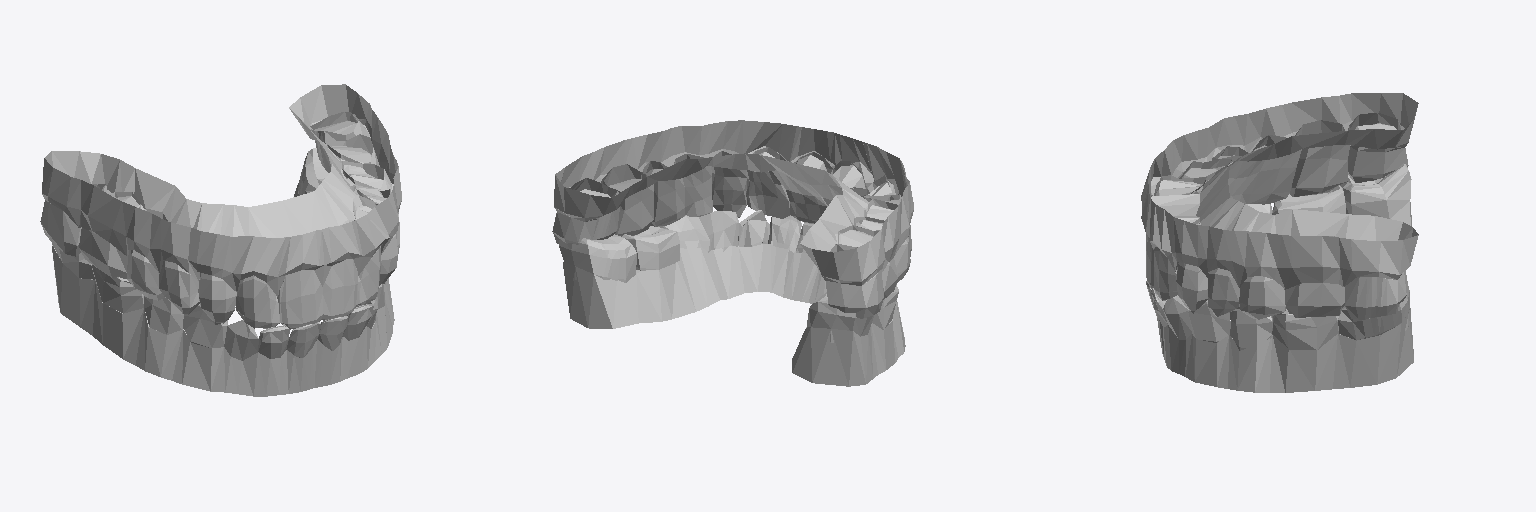
The model's file is jaw-segmented.obj.
3 renders of one model, left to right at view 1: azimuth 30°, elevation 25°; view 2: azimuth 150°, elevation 25°; view 3: azimuth 270°, elevation 25°, orthographic.
Visible parts, largest first — view 1: gum_15, gum_14, tooth_left_front_12, tooth_left_front_10, tooth_right_front_17, tooth_left_back_2, tooth_left_front_6, tooth_left_back_0, tooth_left_front_8, tooth_left_back_4, tooth_left_middle_3, tooth_left_front_7 (+13 smaller); view 2: gum_15, gum_14, tooth_right_back_28, tooth_right_back_29, tooth_right_back_27, tooth_left_back_0, tooth_right_front_19, tooth_right_back_25, tooth_right_front_17, tooth_right_front_21, tooth_right_middle_26, tooth_left_back_1 (+9 smaller); view 3: gum_15, gum_14, tooth_left_back_2, tooth_left_back_1, tooth_right_back_29, tooth_left_back_0, tooth_right_back_25, tooth_left_middle_3, tooth_right_back_27, tooth_right_middle_26, tooth_right_back_28, tooth_left_front_6 (+7 smaller).
Boxes of the visible parts, x1=… form: gum_15: x1=42, y1=84, x2=401, y2=296; gum_14: x1=52, y1=180, x2=394, y2=396; tooth_left_front_12: x1=277, y1=270, x2=322, y2=328; tooth_left_front_10: x1=236, y1=275, x2=279, y2=328; tooth_right_front_17: x1=322, y1=259, x2=357, y2=320; tooth_left_back_2: x1=79, y1=192, x2=140, y2=278; tooth_left_front_6: x1=159, y1=261, x2=199, y2=314; tooth_left_back_0: x1=40, y1=184, x2=106, y2=256; tooth_left_front_8: x1=198, y1=273, x2=236, y2=324; tooth_left_back_4: x1=92, y1=265, x2=143, y2=313; tooth_left_middle_3: x1=127, y1=209, x2=167, y2=300; tooth_left_front_7: x1=183, y1=304, x2=227, y2=347; gum_15: x1=554, y1=120, x2=913, y2=285; gum_14: x1=563, y1=244, x2=905, y2=386; tooth_right_back_28: x1=559, y1=234, x2=636, y2=282; tooth_right_back_29: x1=552, y1=178, x2=619, y2=244; tooth_right_back_27: x1=601, y1=164, x2=653, y2=236; tooth_left_back_0: x1=826, y1=244, x2=883, y2=318; tooth_right_front_19: x1=746, y1=147, x2=789, y2=218; tooth_right_back_25: x1=622, y1=226, x2=679, y2=270; tooth_right_front_17: x1=772, y1=152, x2=832, y2=223; tooth_right_front_21: x1=711, y1=151, x2=747, y2=217; tooth_right_middle_26: x1=642, y1=161, x2=684, y2=226; tooth_left_back_1: x1=807, y1=292, x2=873, y2=342; gum_15: x1=1141, y1=93, x2=1418, y2=289; gum_14: x1=1157, y1=201, x2=1413, y2=392; tooth_left_back_2: x1=1289, y1=120, x2=1349, y2=196; tooth_left_back_1: x1=1343, y1=163, x2=1411, y2=218; tooth_right_back_29: x1=1345, y1=271, x2=1408, y2=319; tooth_left_back_0: x1=1348, y1=113, x2=1408, y2=182; tooth_right_back_25: x1=1272, y1=309, x2=1338, y2=349; tooth_left_middle_3: x1=1247, y1=135, x2=1301, y2=204; tooth_right_back_27: x1=1284, y1=236, x2=1344, y2=317; tooth_right_middle_26: x1=1239, y1=276, x2=1286, y2=319; tooth_right_back_28: x1=1338, y1=286, x2=1409, y2=340; tooth_left_front_6: x1=1212, y1=146, x2=1264, y2=203.
Size of the model in its own units: 18.09 by 9.71 by 13.63.